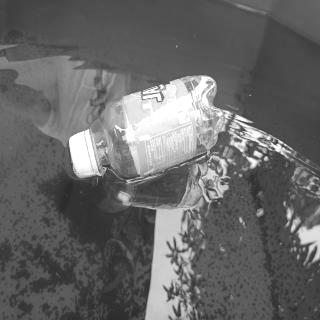bottle: (67, 72, 226, 185)
